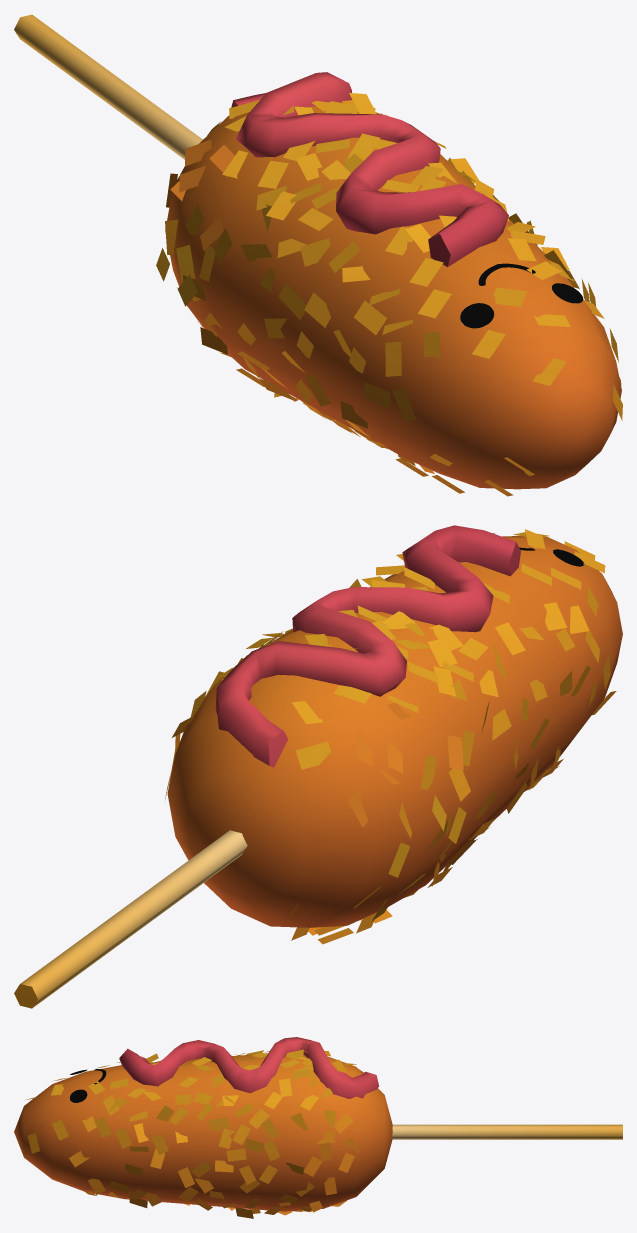
File: corn_dog_red.fbx
3 views of the same model, one above another, from view 1: azimuth 30°, elevation 25°; view 2: azimuth 150°, elevation 25°; view 3: azimuth 270°, elevation 25° (orthographic). The views are drawn at different scales.
Visible parts, largest first — view 1: corn_dog_red; view 2: corn_dog_red; view 3: corn_dog_red.
Boxes of the visible parts, <box> form: corn_dog_red: <box>14,14,622,496</box>; corn_dog_red: <box>14,525,622,1008</box>; corn_dog_red: <box>14,1037,622,1218</box>.
Size of the model in its own units: 41.86 by 150 by 43.63.
